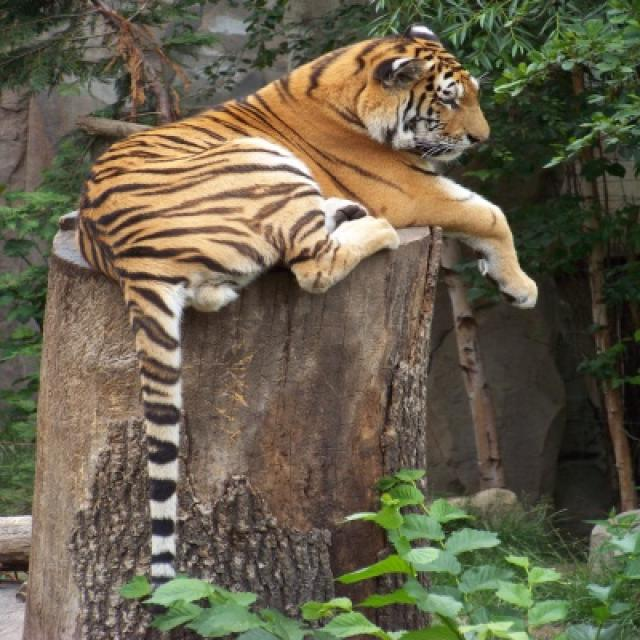Tiger: (77, 26, 539, 571)
